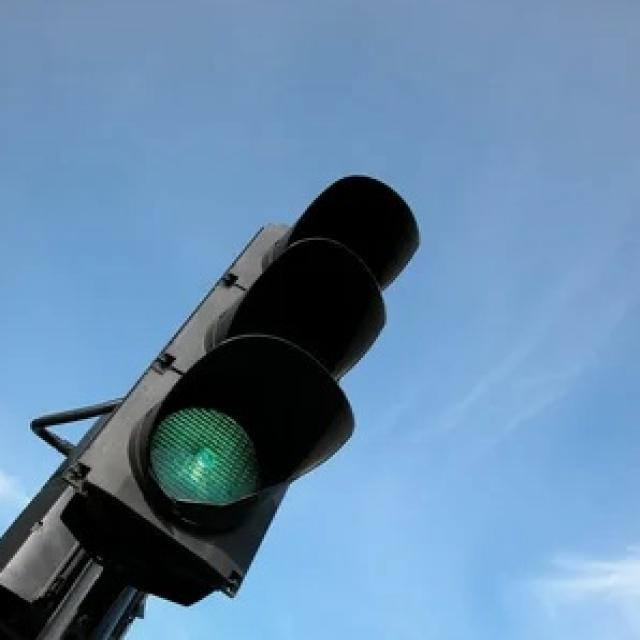yesil: (59, 177, 420, 606)
